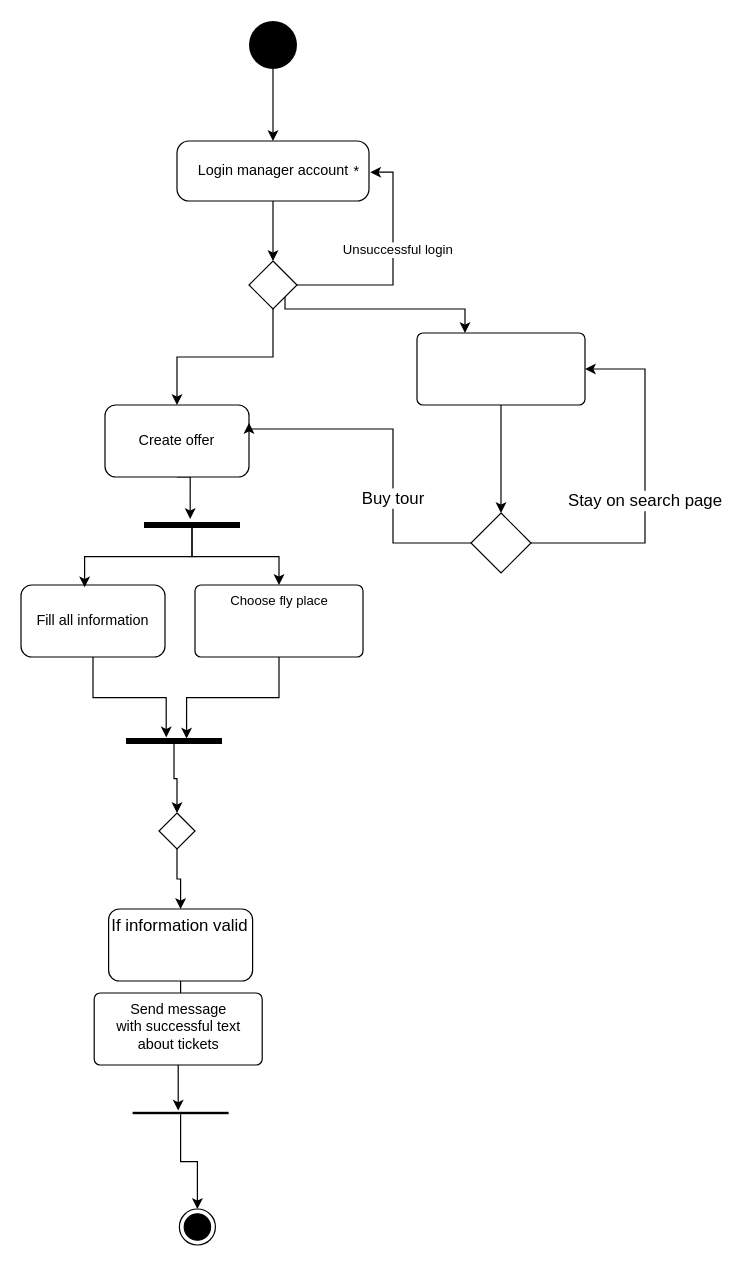
This 742x1266 diagram has some shape labels left out. Each missing label, with the centre of its shape:
Add and save: point (180, 944)
Check and search some tours: point (500, 368)
